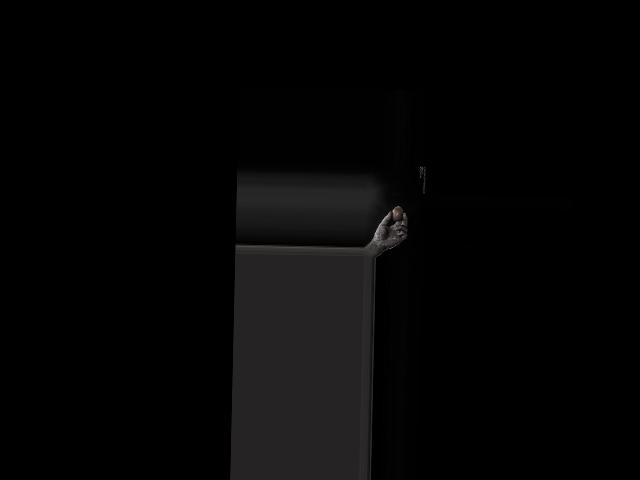egg: (391, 206, 403, 222)
